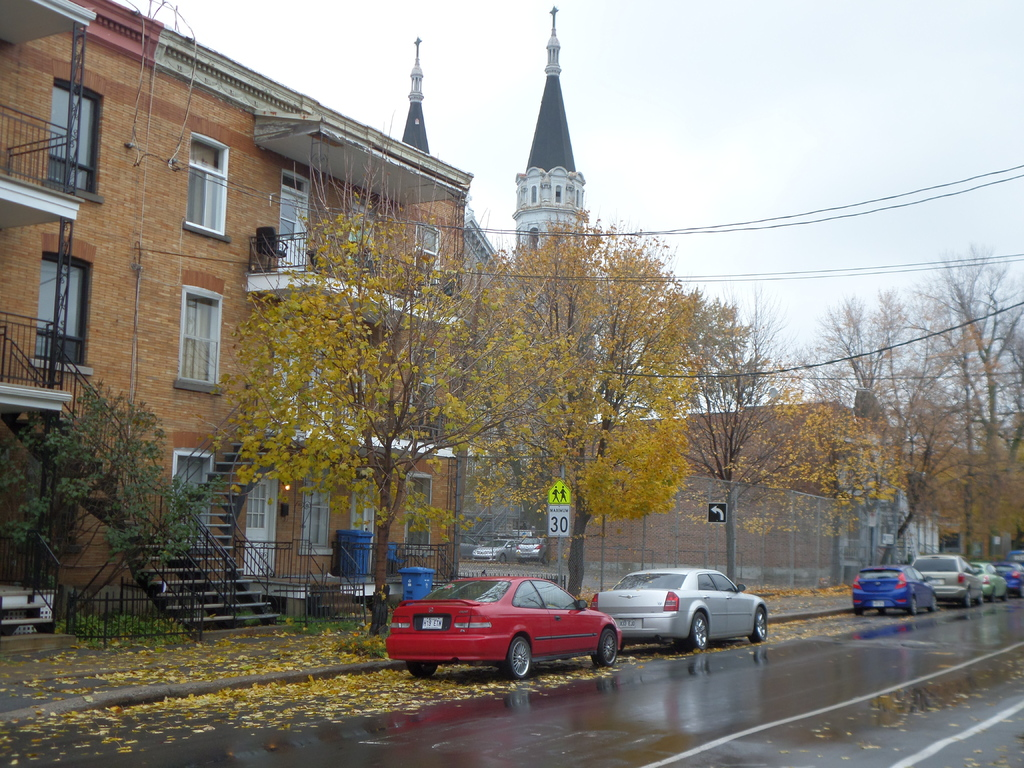Tree: (220, 132, 535, 595), (428, 207, 702, 597), (808, 246, 1023, 566), (1, 380, 210, 566), (670, 288, 812, 481)
